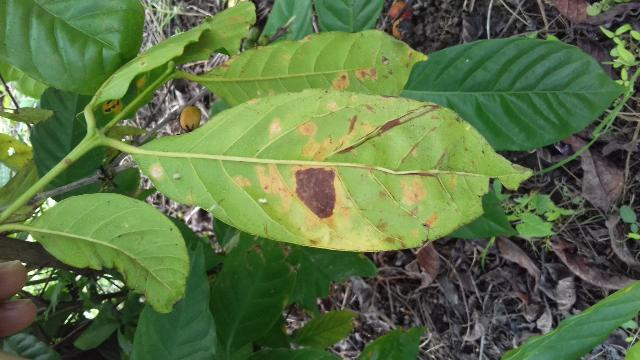rust_level_2: (104, 89, 538, 253)
